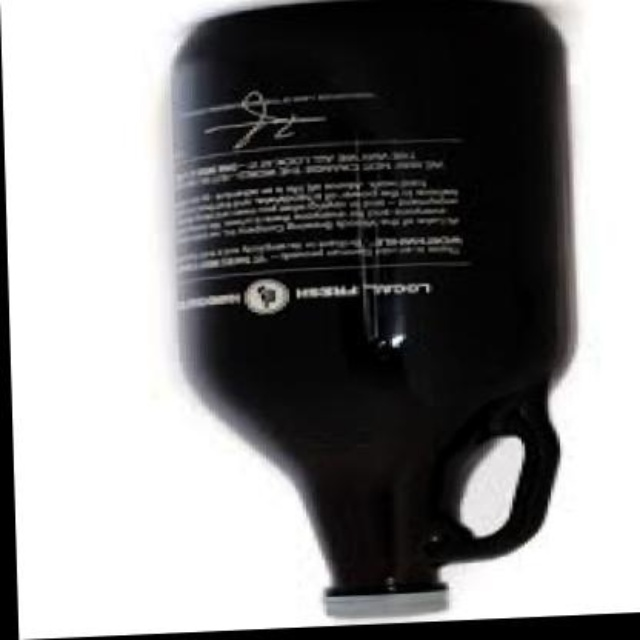trash: (172, 0, 572, 595)
